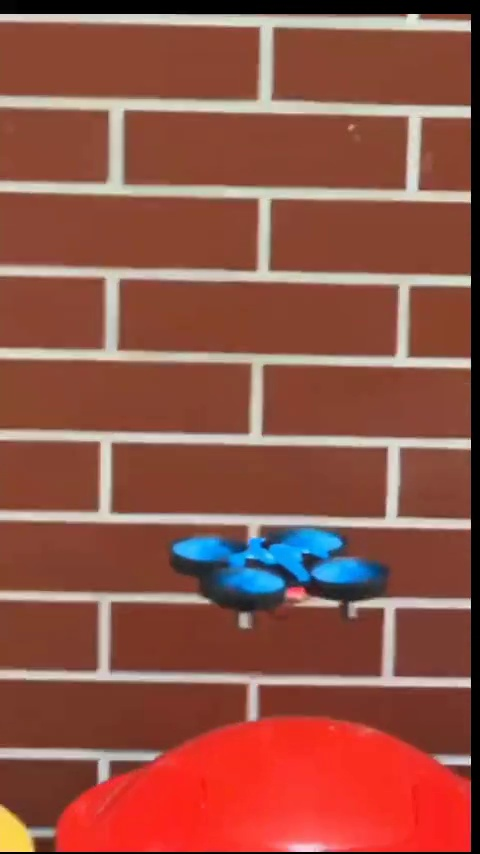drone: (165, 524, 389, 630)
